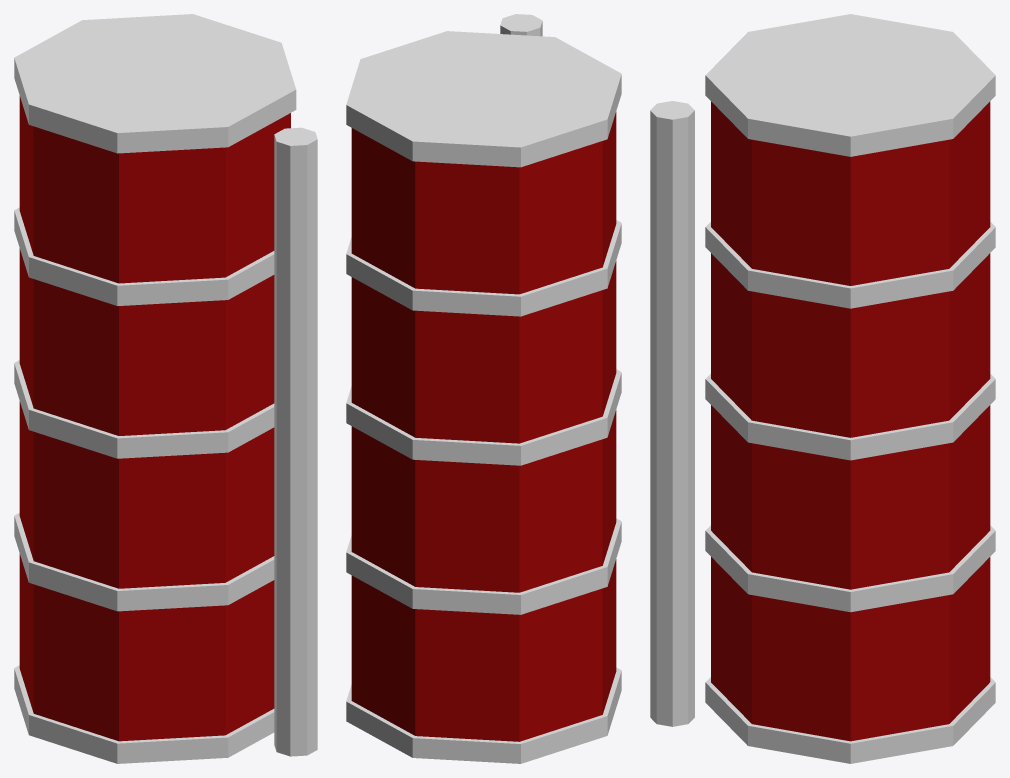
The model's file is silos.gltf.
3 renders of one model, left to right at view 1: azimuth 30°, elevation 25°; view 2: azimuth 150°, elevation 25°; view 3: azimuth 270°, elevation 25°, orthographic. The views are drawn at different scales.
Parts seen in each view (by area): view 1: Cylinder, Cylinder.002, Cylinder.006, Cylinder.003, Cylinder.004, Cylinder.005, Cylinder.001; view 2: Cylinder, Cylinder.002, Cylinder.001, Cylinder.004, Cylinder.003, Cylinder.005, Cylinder.006; view 3: Cylinder, Cylinder.002, Cylinder.006, Cylinder.004, Cylinder.001, Cylinder.003, Cylinder.005.
Part boxes in pixels (bbox=[...]): Cylinder: bbox=[19, 96, 290, 741]; Cylinder.002: bbox=[14, 14, 296, 153]; Cylinder.006: bbox=[274, 127, 317, 756]; Cylinder.003: bbox=[14, 360, 274, 458]; Cylinder.004: bbox=[14, 513, 274, 611]; Cylinder.005: bbox=[14, 207, 274, 305]; Cylinder.001: bbox=[14, 665, 274, 763]; Cylinder: bbox=[351, 112, 616, 741]; Cylinder.002: bbox=[346, 31, 621, 167]; Cylinder.001: bbox=[346, 667, 621, 763]; Cylinder.004: bbox=[346, 518, 621, 614]; Cylinder.003: bbox=[346, 369, 621, 465]; Cylinder.005: bbox=[346, 220, 621, 316]; Cylinder.006: bbox=[500, 14, 542, 36]; Cylinder: bbox=[711, 101, 990, 741]; Cylinder.002: bbox=[705, 14, 995, 156]; Cylinder.006: bbox=[650, 101, 694, 726]; Cylinder.004: bbox=[705, 525, 995, 612]; Cylinder.001: bbox=[705, 677, 995, 763]; Cylinder.003: bbox=[705, 373, 995, 460]; Cylinder.005: bbox=[705, 222, 995, 308].
Size of the model in its own units: 2.6 by 6.2 by 3.1.
